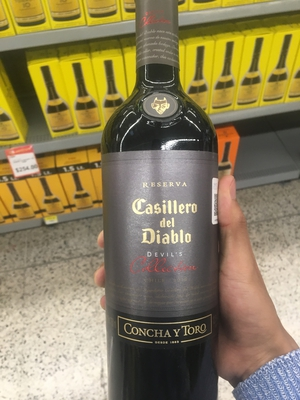casillero del diablo devils collection rojo: (101, 2, 224, 400)
